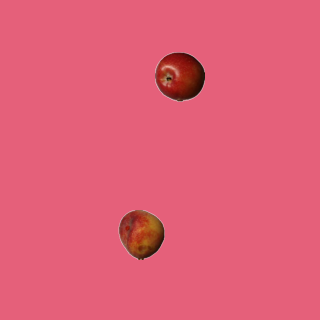Apple Braeburn: (154, 51, 204, 101)
Peach: (116, 209, 166, 259)
